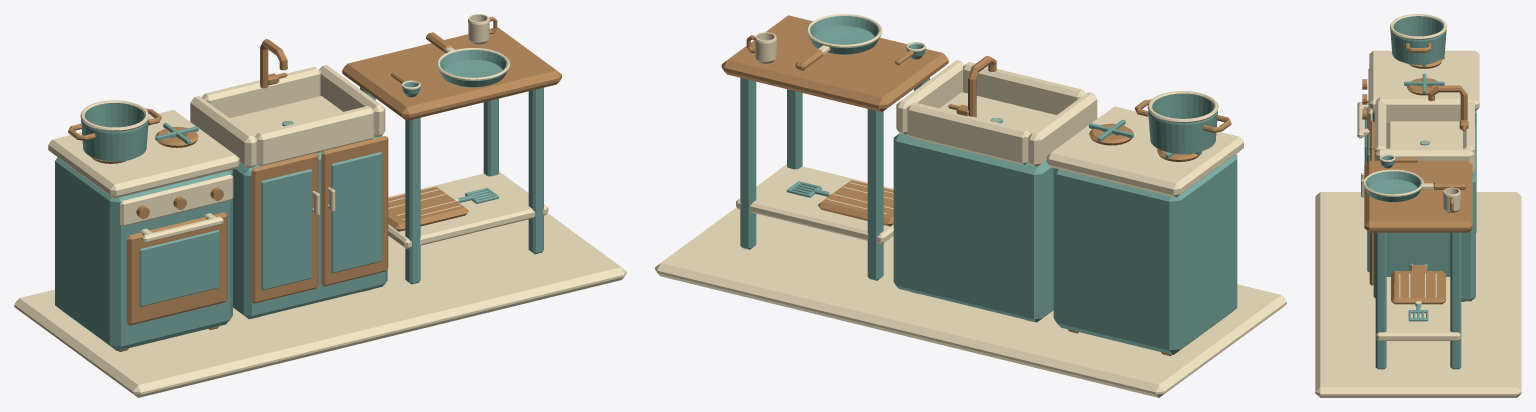
3 renders of one model, left to right at view 1: azimuth 30°, elevation 25°; view 2: azimuth 150°, elevation 25°; view 3: azimuth 270°, elevation 25°, orthographic. The views are drawn at different scales.
Visible parts, largest first — view 1: kitchen-hearth-scene-01; view 2: kitchen-hearth-scene-01; view 3: kitchen-hearth-scene-01.
Boxes of the visible parts, <box> form: kitchen-hearth-scene-01: <box>14,14,626,397</box>; kitchen-hearth-scene-01: <box>655,14,1286,397</box>; kitchen-hearth-scene-01: <box>1315,14,1521,397</box>.
Size of the model in its own units: 2.41 by 1.14 by 1.05.
